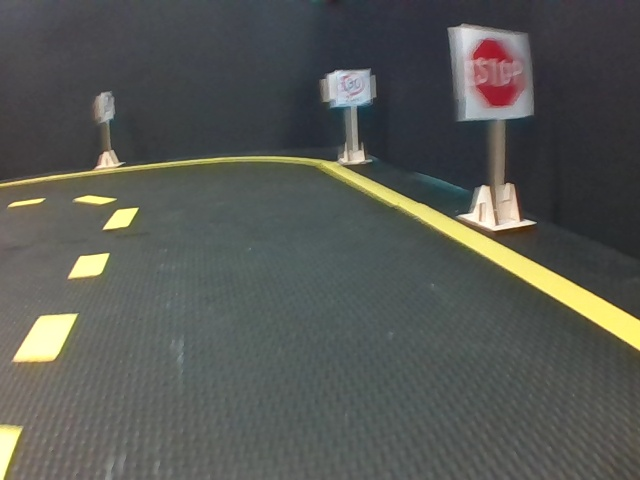30: (331, 70, 369, 104)
no30: (99, 93, 114, 120)
stop: (455, 26, 535, 118)
